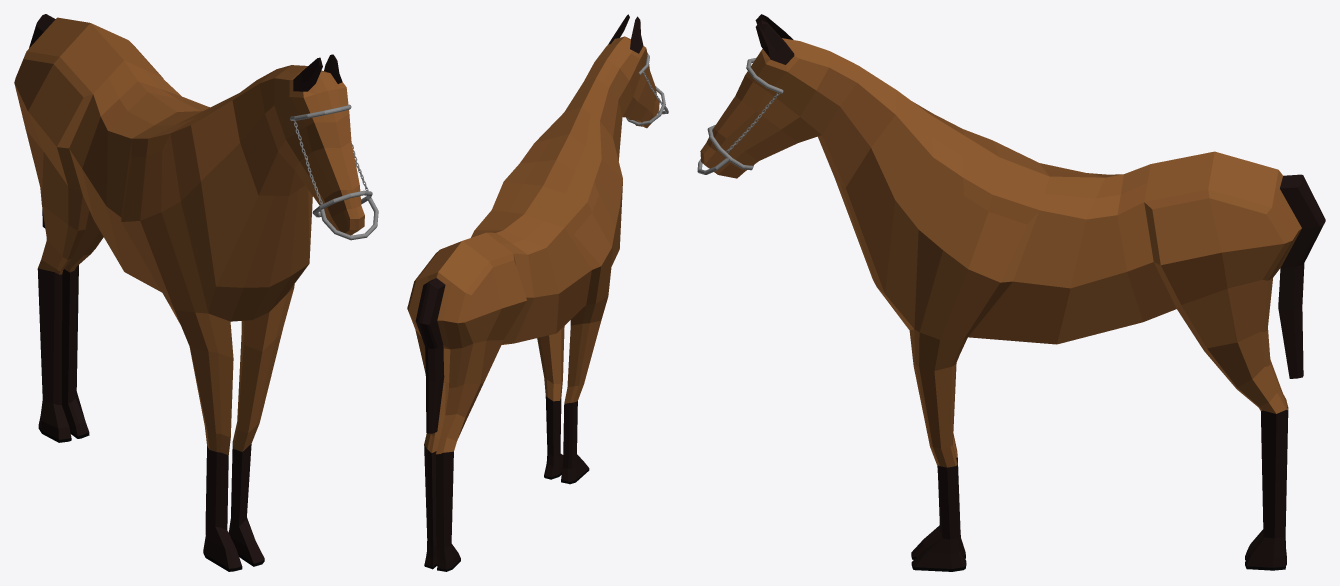
The model's file is Horse.fbx.
3 renders of one model, left to right at view 1: azimuth 30°, elevation 25°; view 2: azimuth 150°, elevation 25°; view 3: azimuth 270°, elevation 25°, orthographic. The views are drawn at different scales.
Visible parts, largest first — view 1: Horse.005; view 2: Horse.005; view 3: Horse.005.
Boxes of the visible parts, left/top/right/bottom form: Horse.005: left=14, top=14, right=378, bottom=571; Horse.005: left=407, top=14, right=668, bottom=571; Horse.005: left=697, top=14, right=1325, bottom=571.
Size of the model in its own units: 36.37 by 122 by 128.
